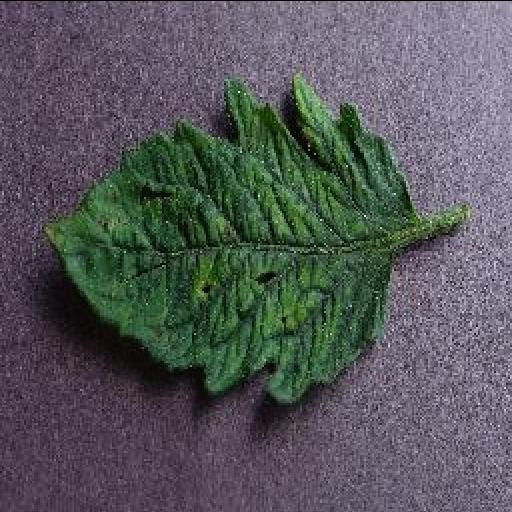Mosaic Virus: (38, 70, 416, 404)
